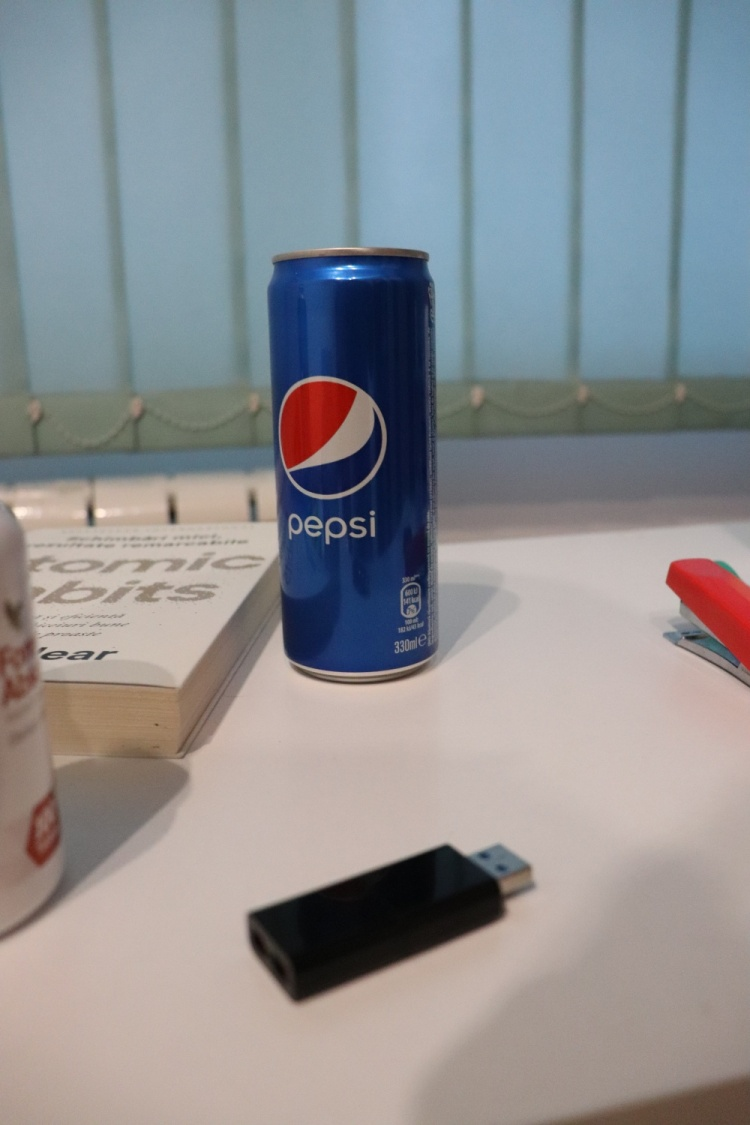pepsi: (264, 244, 444, 688)
